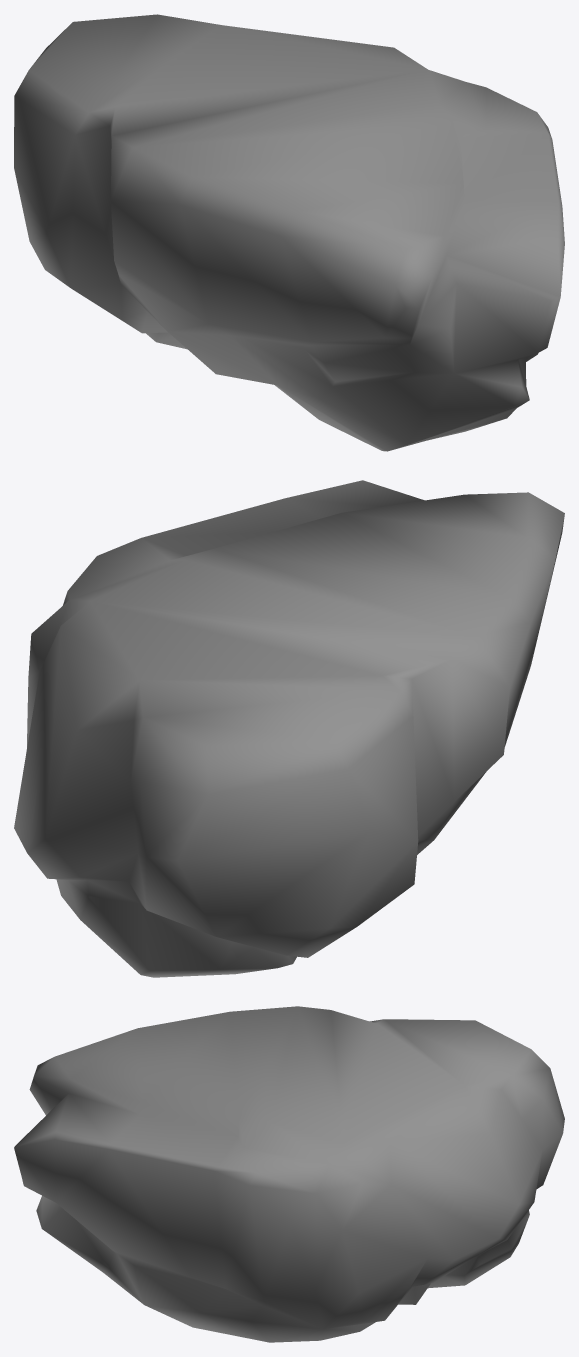
3 renders of one model, top to bottom at view 1: azimuth 30°, elevation 25°; view 2: azimuth 150°, elevation 25°; view 3: azimuth 270°, elevation 25°, orthographic. The views are drawn at different scales.
Parts seen in each view (by area): view 1: submesh_0; view 2: submesh_0; view 3: submesh_0.
Part boxes in pixels (bbox=[...]): submesh_0: bbox=[14, 14, 564, 451]; submesh_0: bbox=[14, 480, 564, 977]; submesh_0: bbox=[14, 1006, 564, 1342].
Size of the model in its own units: 4.63 by 3.14 by 6.92.
1 material, 1 textured.
